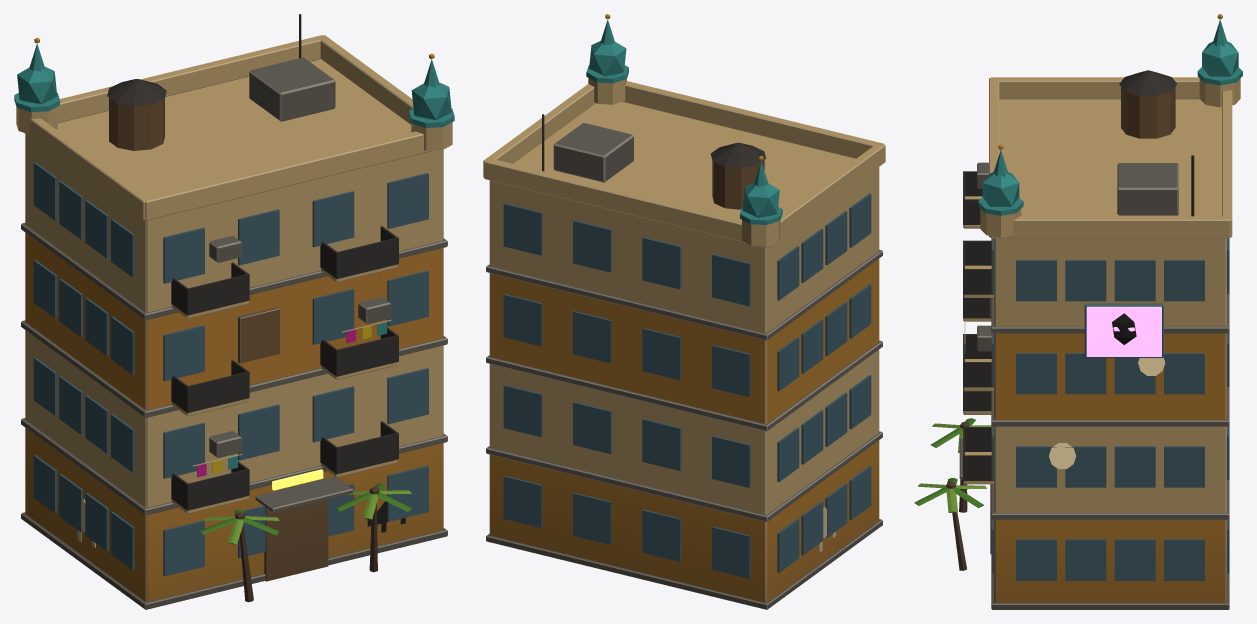
Rendered from n_apartment_chunks.glb.
3 renders of one model, left to right at view 1: azimuth 30°, elevation 25°; view 2: azimuth 150°, elevation 25°; view 3: azimuth 270°, elevation 25°, orthographic. The views are drawn at different scales.
Visible parts, largest first — view 1: chunk_7, chunk_3, chunk_0, chunk_2, chunk_1, chunk_6, chunk_5, chunk_4; view 2: chunk_3, chunk_7, chunk_0, chunk_2, chunk_1, chunk_5, chunk_4, chunk_6; view 3: chunk_7, chunk_5, chunk_6, chunk_4, chunk_3, chunk_2, chunk_0, chunk_1.
Boxes of the visible parts, left/top/right/bottom form: chunk_7: left=157, top=14, right=454, bottom=280; chunk_3: left=14, top=37, right=274, bottom=312; chunk_0: left=21, top=412, right=301, bottom=609; chunk_2: left=21, top=229, right=280, bottom=416; chunk_1: left=21, top=324, right=287, bottom=513; chunk_6: left=274, top=243, right=447, bottom=382; chunk_5: left=280, top=342, right=447, bottom=483; chunk_4: left=285, top=449, right=447, bottom=575; chunk_3: left=634, top=115, right=885, bottom=339; chunk_7: left=483, top=14, right=768, bottom=309; chunk_0: left=620, top=432, right=882, bottom=609; chunk_2: left=629, top=247, right=882, bottom=427; chunk_1: left=626, top=345, right=882, bottom=507; chunk_5: left=486, top=359, right=630, bottom=479; chunk_4: left=486, top=452, right=626, bottom=573; chunk_6: left=486, top=277, right=635, bottom=394; chunk_7: left=963, top=135, right=1232, bottom=338; chunk_5: left=963, top=422, right=1229, bottom=525; chunk_6: left=963, top=297, right=1229, bottom=424; chunk_4: left=914, top=445, right=1229, bottom=609; chunk_3: left=963, top=14, right=1242, bottom=253; chunk_2: left=963, top=194, right=1229, bottom=349; chunk_0: left=931, top=418, right=1229, bottom=537; chunk_1: left=963, top=388, right=991, bottom=426.
Size of the model in its own units: 10.34 by 14.87 by 9.59.
